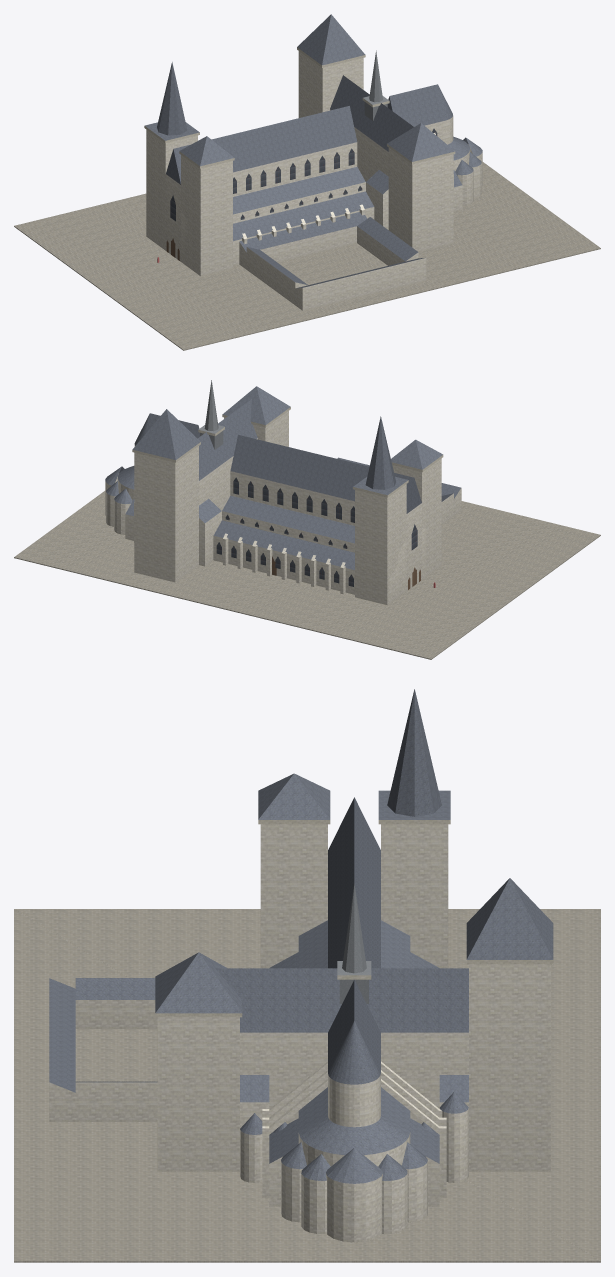
The model's file is saint_martin_1785.glb.
The picture shows the model from 3 angles, top to bottom: view 1: azimuth 30°, elevation 25°; view 2: azimuth 150°, elevation 25°; view 3: azimuth 270°, elevation 25°; orthographic projection. The views are drawn at different scales.
Visible parts, largest first — view 1: saint_martin_1785; view 2: saint_martin_1785; view 3: saint_martin_1785.
Part boxes in pixels (x1,y1,x2,y2): saint_martin_1785: (14, 14, 600, 350); saint_martin_1785: (14, 380, 600, 659); saint_martin_1785: (14, 689, 600, 1262).
Bounding box in the file's own units: 142 × 58.3 × 100.
Materials: 8 (7 with a texture image).
